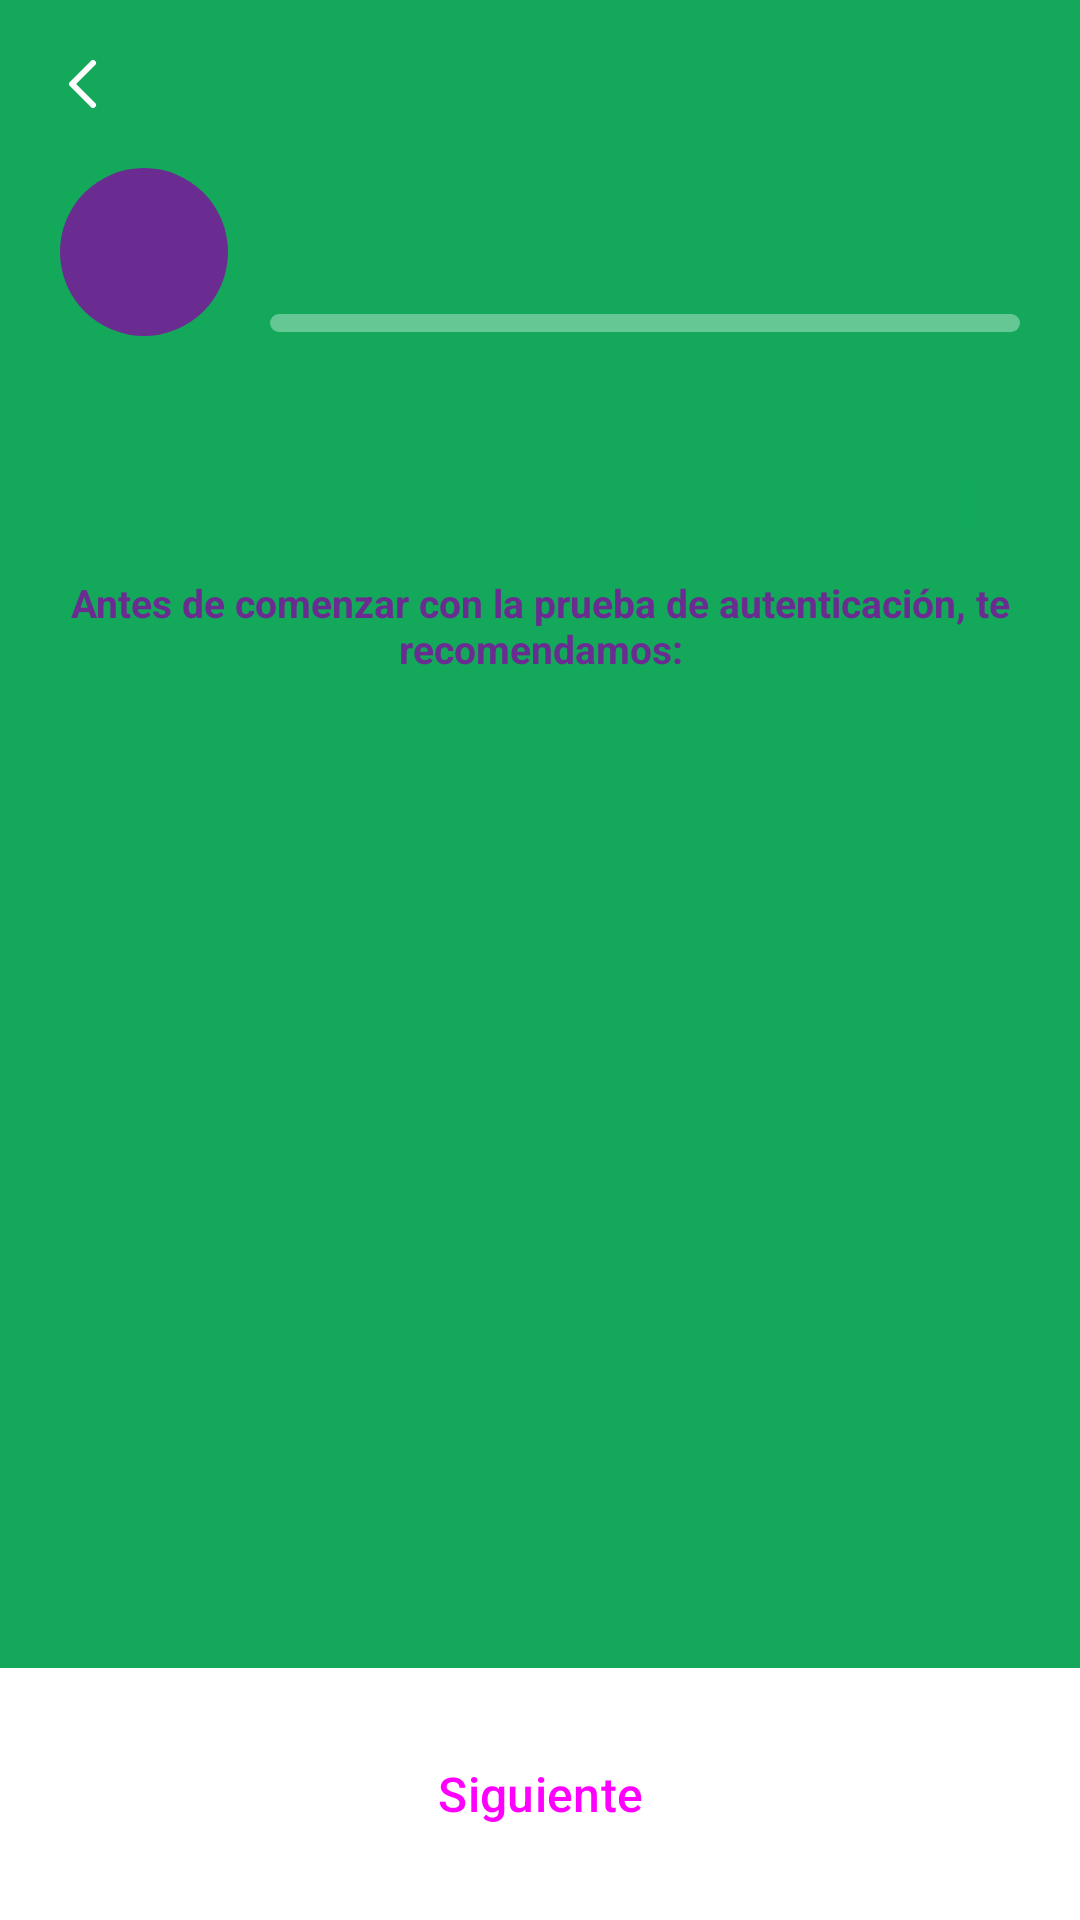

Locate icon controls on the screen. Image size 1080px x 1920px, boxes as BBox(x1, y1, x2, y2).
Atrás: BBox(69, 60, 96, 108)
